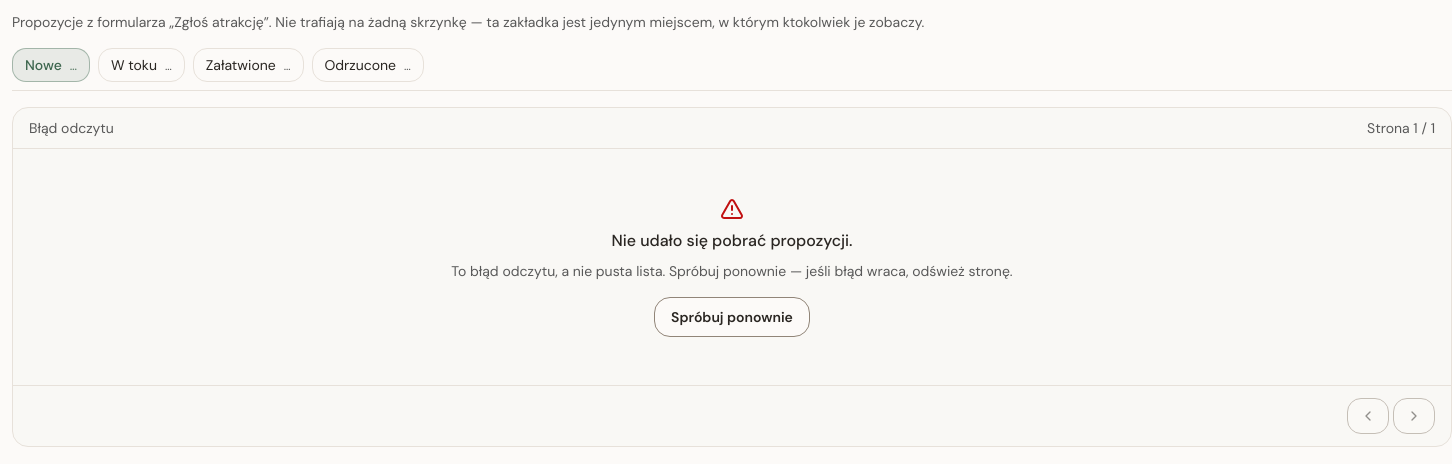
it: Panel admina — błąd odczytu listy nie udaje pustej kolejki (GL-3-018/046/054/058) › Propozycje: 500 → stan błędu bez „Brak…”, ponowienie z pustą odpowiedzią → zwykła pusta kolejka
The image size is (1452, 464).
Expected: the text "Nie udało się pobrać propozycji." is shown, x1=612 y1=229 x2=852 y2=253
Expected: the text "Brak propozycji w tej kolejce" is not shown
Click the button "Spróbuj ponownie" at (732, 317), box x1=654 y1=297 x2=810 y2=337
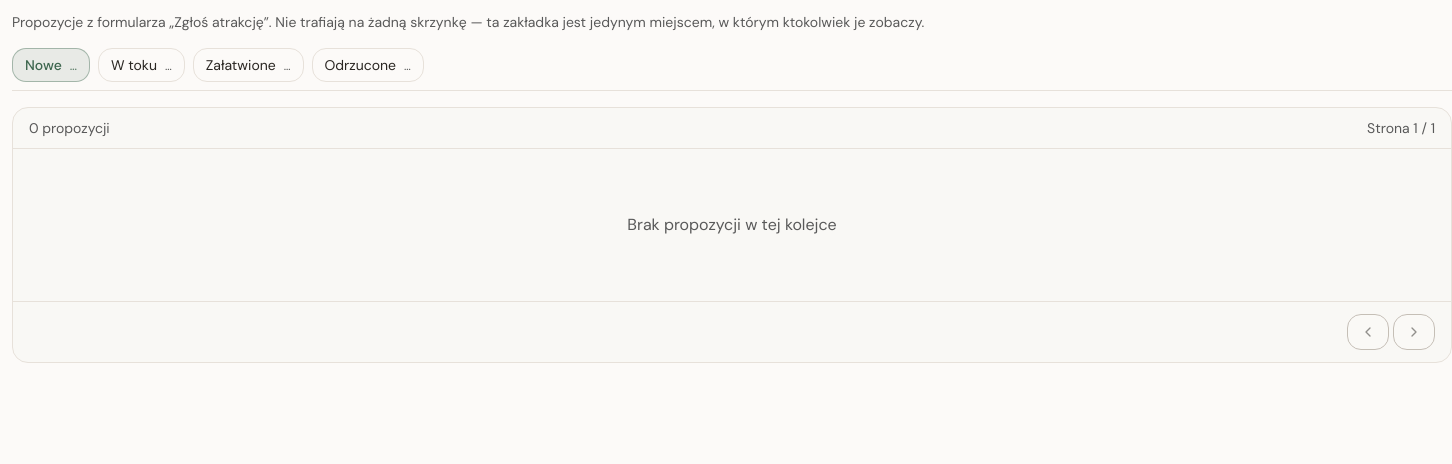
Now the text "Brak propozycji w tej kolejce" is shown, box x1=627 y1=214 x2=837 y2=235
Now the message is gone
Now the text "Nie udało się pobrać propozycji." is gone
